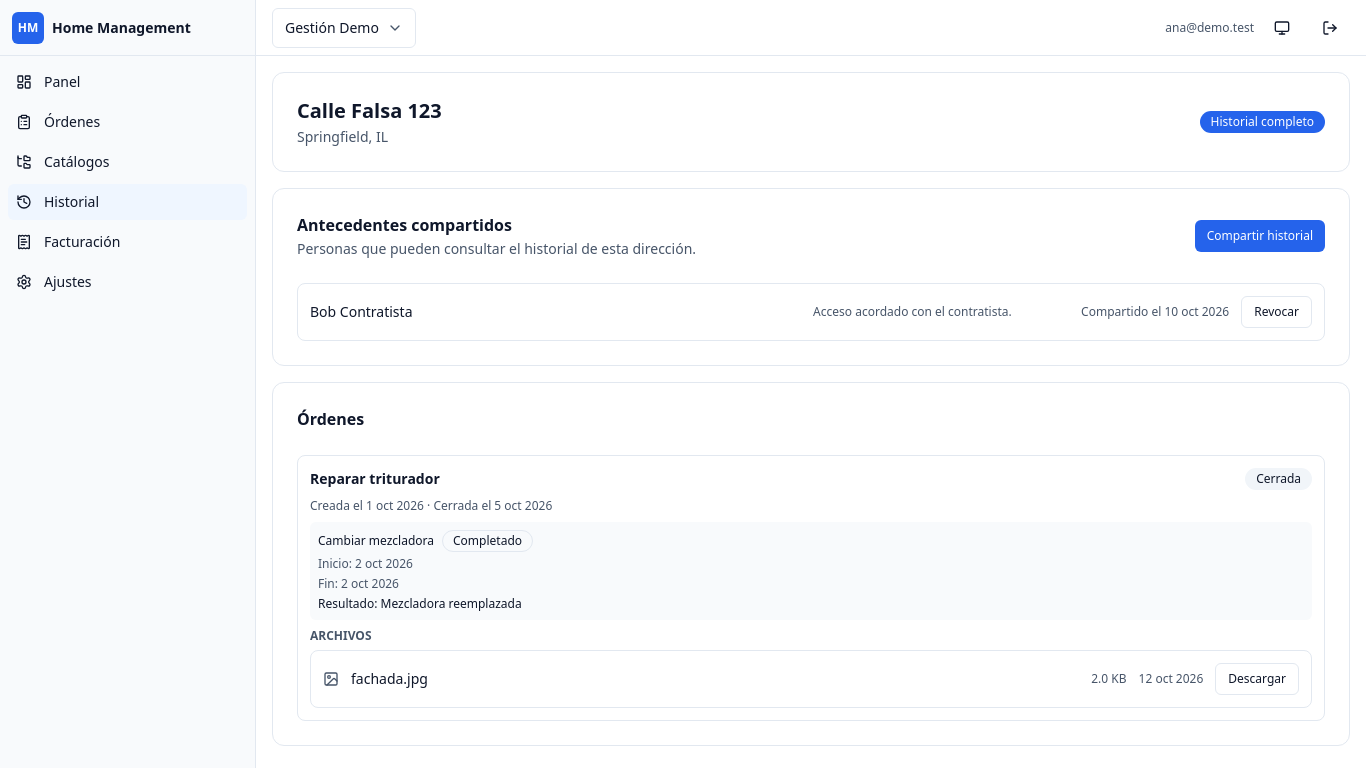
Test: property history (spec F5 §2.4/§5, AC-F5.5…AC-F5.9) › lists the active shares with label + note and revokes through confirmation (AC-F5.8)
Expected: the text "Bob Contratista" is shown, [310,302,412,321]
Expected: the text "Acceso acordado con el contratista." is shown, [813,303,1012,320]
Click the button "Revocar" at point(1277, 312), box [1241,296,1312,328]
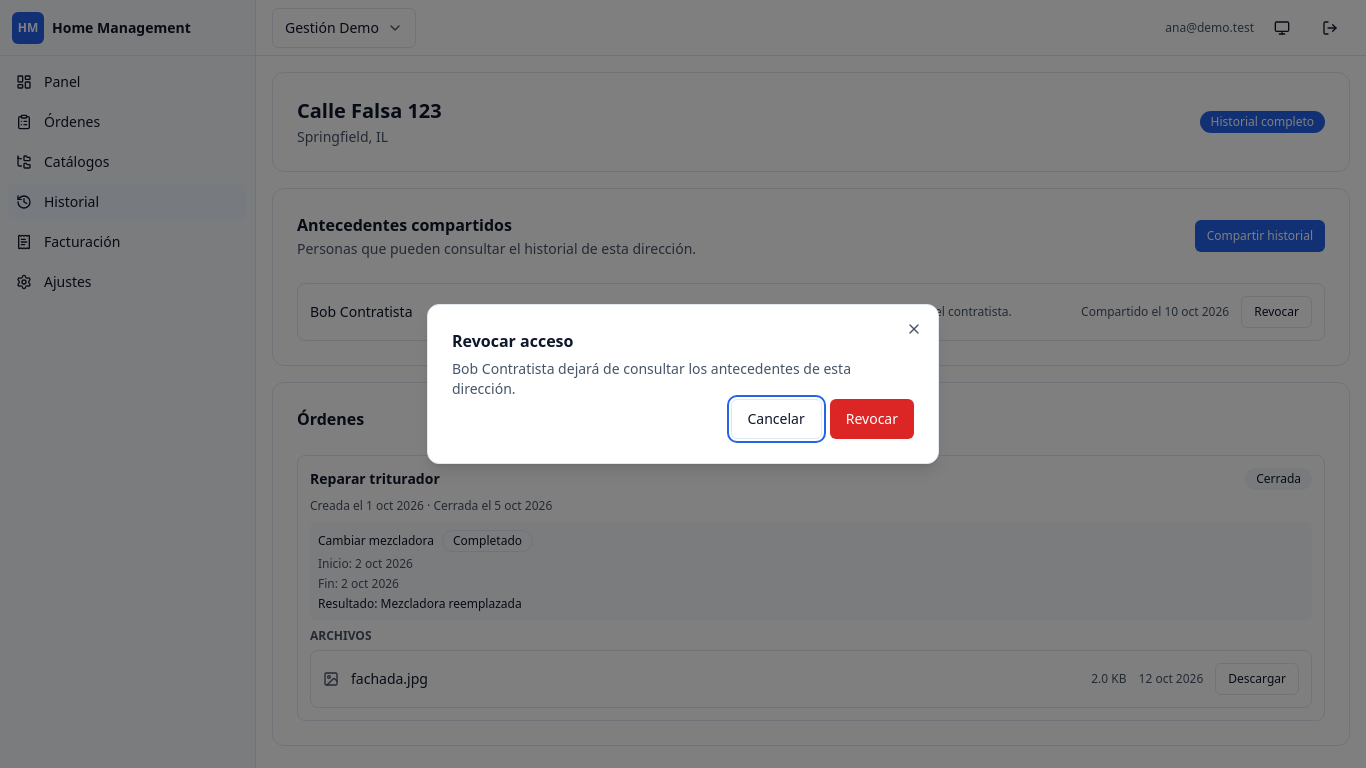
Expected: the text "Bob Contratista" is shown, [452,359,851,398]
Click the button "Revocar" at point(872, 419), box [830,399,914,439]
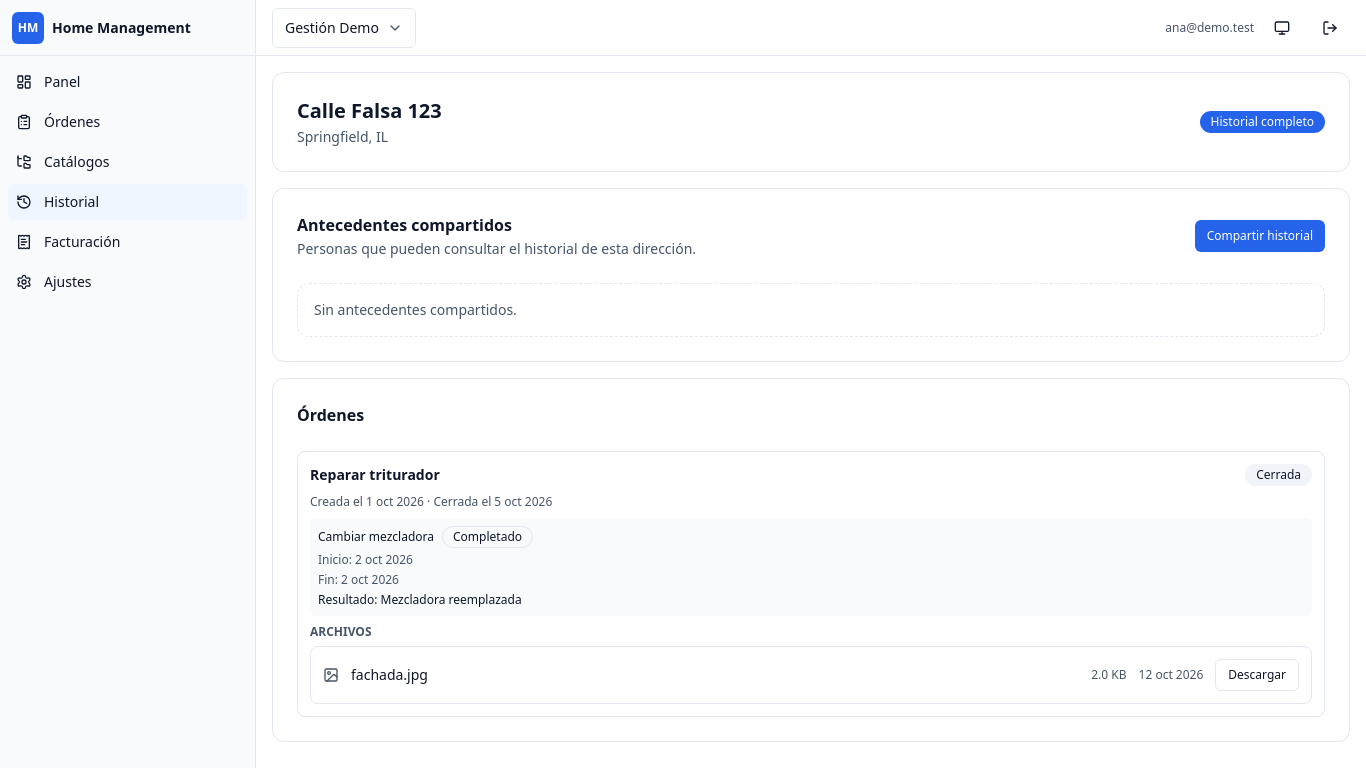
Expected: the text "Bob Contratista" is gone
